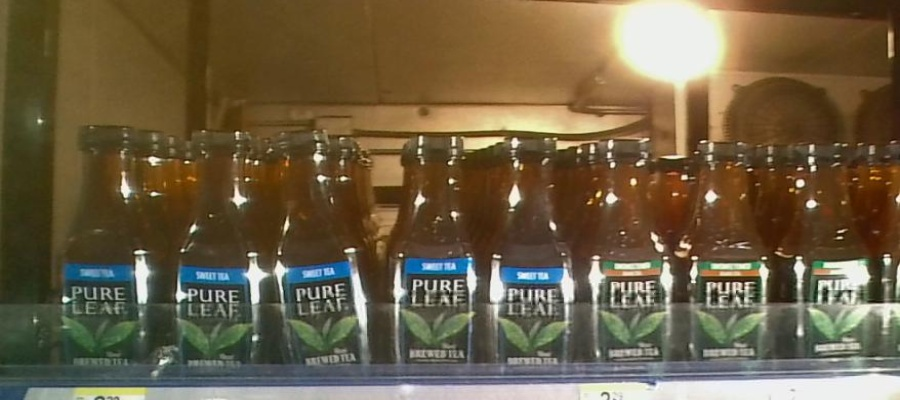bottle: (267, 118, 381, 374), (383, 119, 487, 369), (57, 116, 156, 372), (481, 123, 580, 372), (164, 127, 268, 361), (673, 128, 777, 360), (779, 125, 879, 359), (580, 120, 674, 361)
